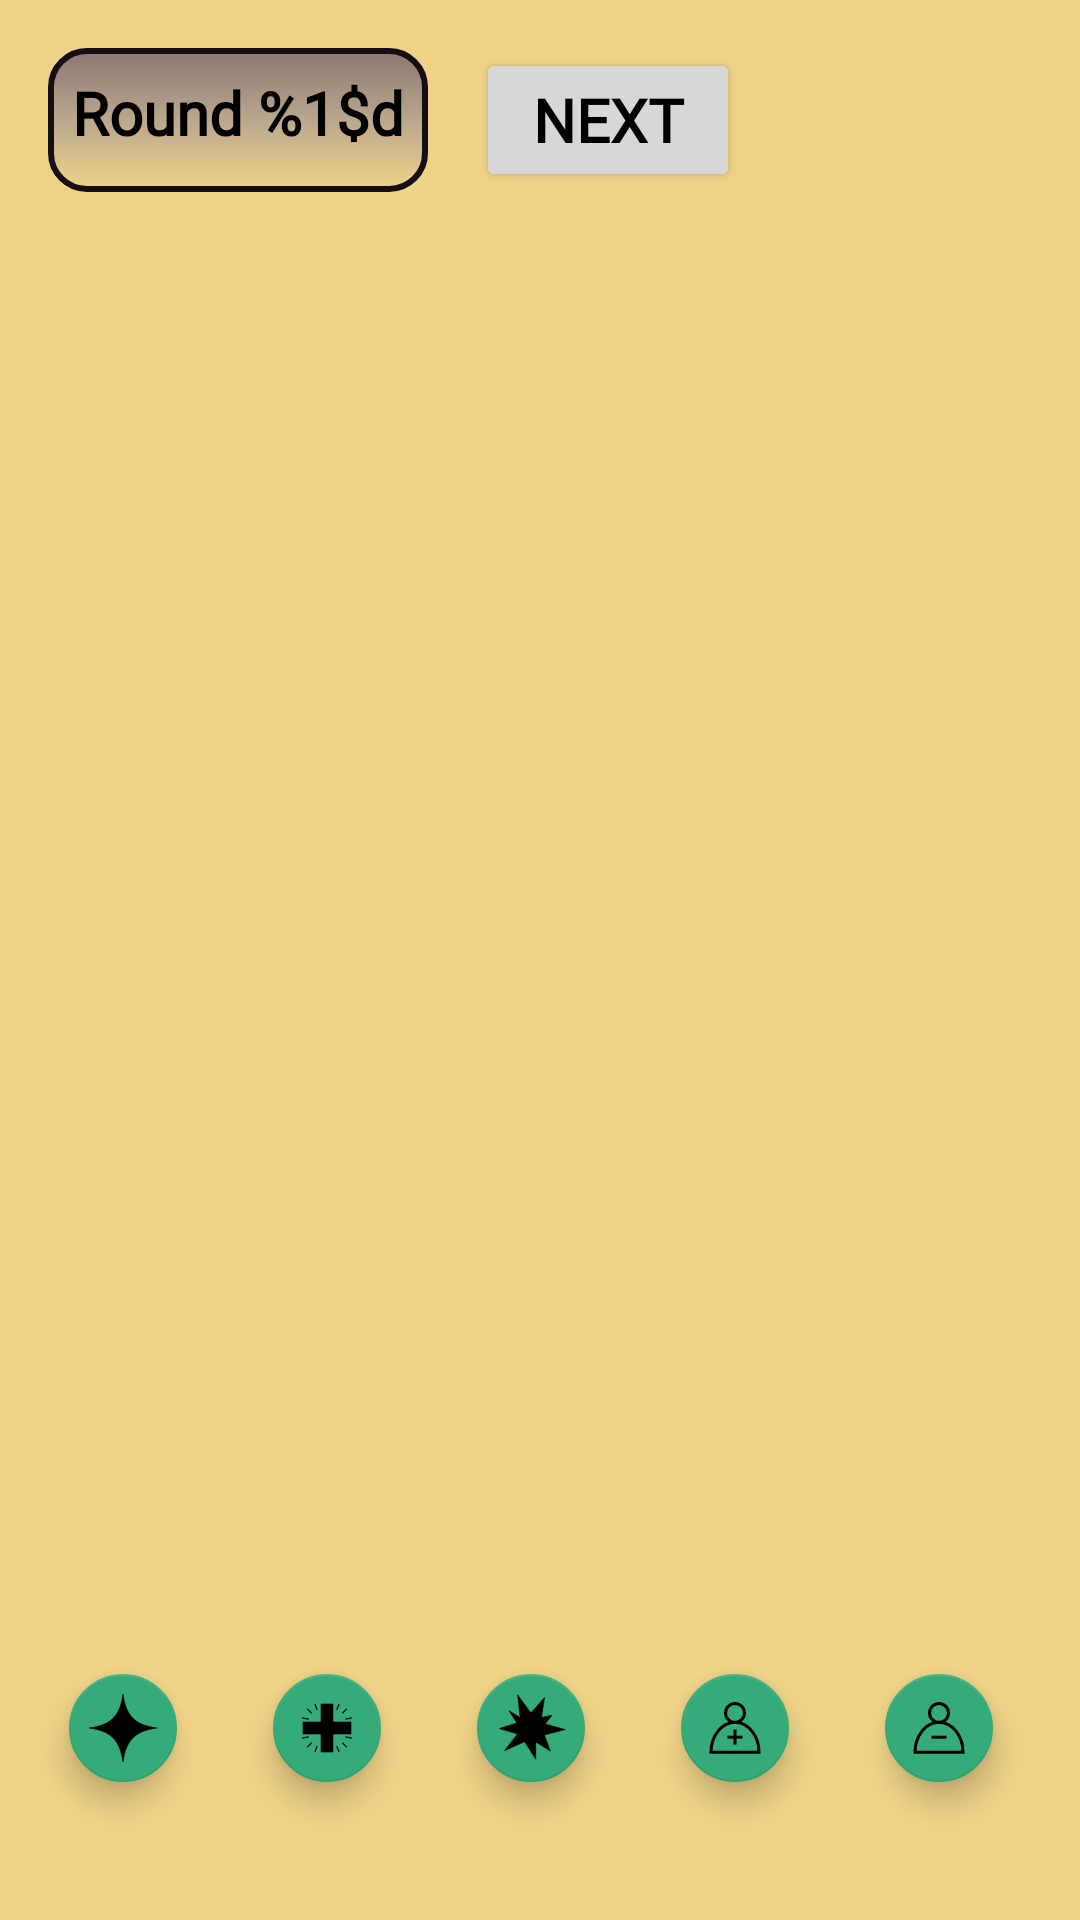

Point at icon controls on the screen. Image size 1080 x 1920, points as (x,y).
addperson: (735,1735)
damage: (531,1735)
effect: (122,1735)
heal: (327,1735)
removeperson: (940,1735)
